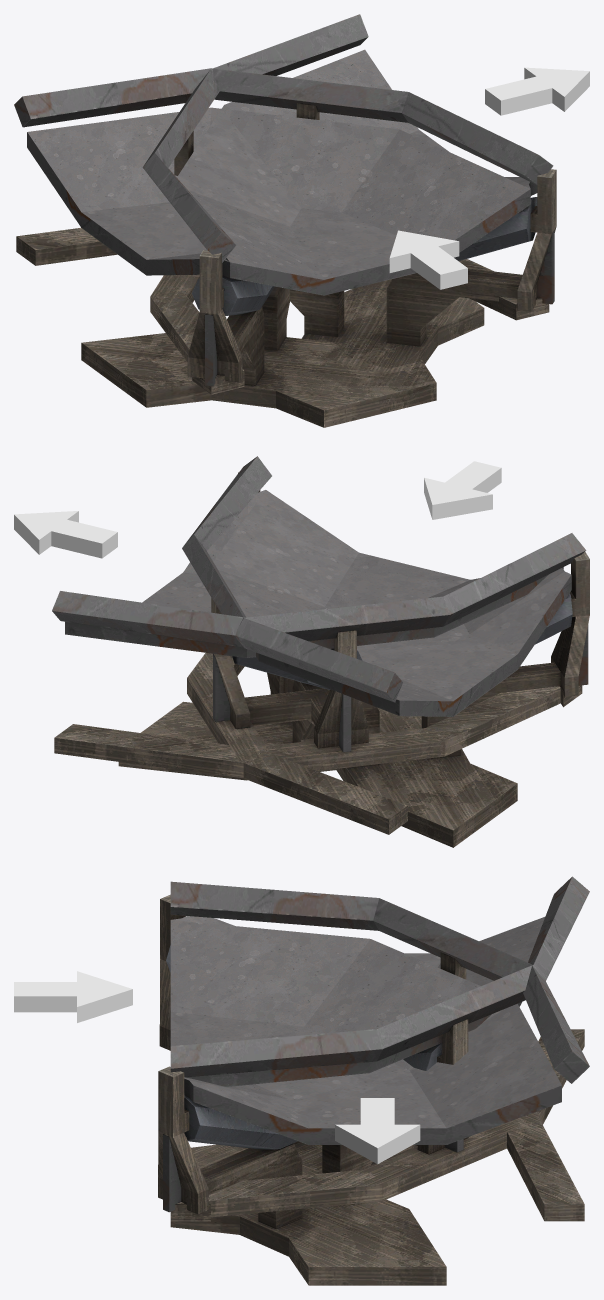
File: Conveyor90_mirror.glb
3 renders of one model, top to bottom at view 1: azimuth 30°, elevation 25°; view 2: azimuth 150°, elevation 25°; view 3: azimuth 270°, elevation 25°, orthographic. The views are drawn at different scales.
Visible parts, largest first — view 1: Conveyor90_mirror, NewRotation, ghostarrow (1), ghostarrow; view 2: Conveyor90_mirror, NewRotation, ghostarrow (1), ghostarrow; view 3: NewRotation, Conveyor90_mirror, ghostarrow, ghostarrow (1).
Part boxes in pixels (<box>): Conveyor90_mirror: <box>14,68,553,427</box>; NewRotation: <box>142,14,556,414</box>; ghostarrow (1): <box>485,67,589,115</box>; ghostarrow: <box>389,230,467,289</box>; Conveyor90_mirror: <box>182,456,589,847</box>; NewRotation: <box>52,472,586,780</box>; ghostarrow (1): <box>14,511,117,558</box>; ghostarrow: <box>424,461,501,519</box>; NewRotation: <box>158,881,589,1285</box>; Conveyor90_mirror: <box>159,876,589,1217</box>; ghostarrow: <box>14,971,132,1022</box>; ghostarrow (1): <box>335,1098,420,1164</box>.
Bounding box in the file's own units: 1.44 × 0.6235 × 1.39.
3 materials, 2 textured.
